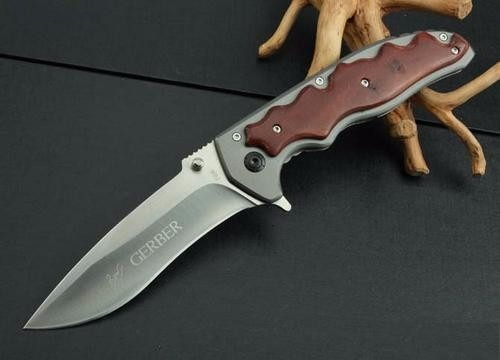knife: (16, 120, 295, 339)
